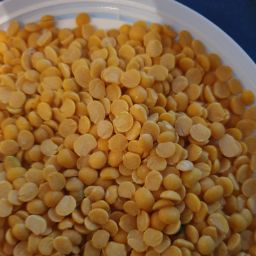Pigeon Pea(toor daal): (5, 20, 256, 256), (22, 60, 211, 234), (62, 69, 234, 244)
